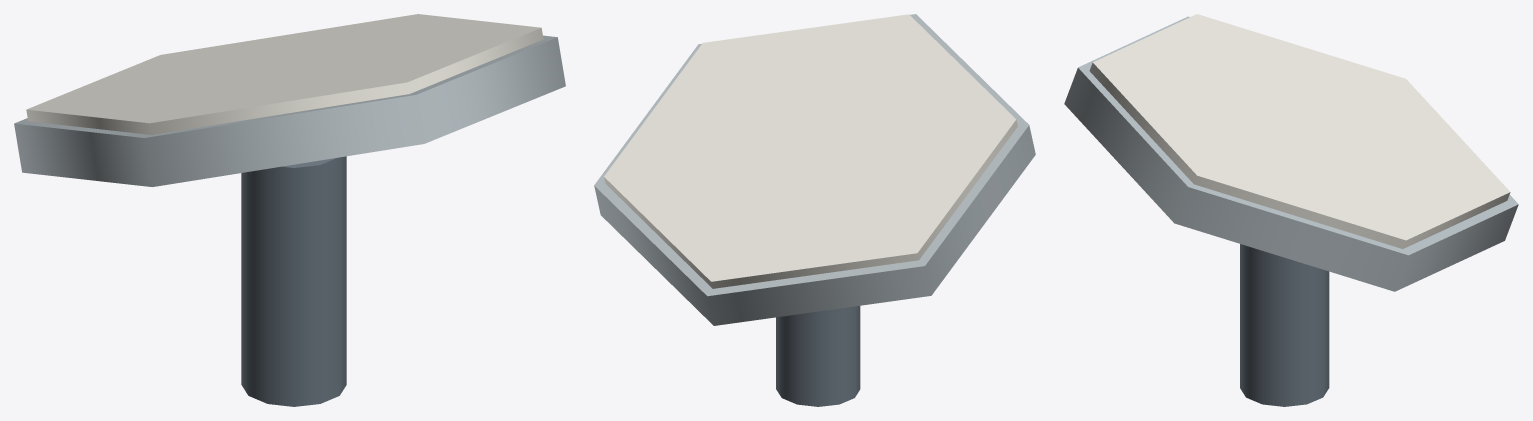
File: perseverance_power_comms.high_gain.glb
3 views of the same model, side by side, from view 1: azimuth 30°, elevation 25°; view 2: azimuth 150°, elevation 25°; view 3: azimuth 270°, elevation 25° (orthographic). The views are drawn at different scales.
Parts seen in each view (by area): view 1: perseverance_power_comms.high_gain.elevation.mesh_Warm_white, perseverance_power_comms.high_gain.elevation.mesh_Satin_alum, perseverance_power_comms.high_gain.mesh_Machined_steel; view 2: perseverance_power_comms.high_gain.elevation.mesh_Warm_white, perseverance_power_comms.high_gain.elevation.mesh_Satin_alum, perseverance_power_comms.high_gain.mesh_Machined_steel; view 3: perseverance_power_comms.high_gain.elevation.mesh_Warm_white, perseverance_power_comms.high_gain.elevation.mesh_Satin_alum, perseverance_power_comms.high_gain.mesh_Machined_steel.
Part boxes in pixels (x1=…): perseverance_power_comms.high_gain.elevation.mesh_Warm_white: x1=26, y1=14, x2=543, y2=134; perseverance_power_comms.high_gain.elevation.mesh_Satin_alum: x1=14, y1=35, x2=565, y2=186; perseverance_power_comms.high_gain.mesh_Machined_steel: x1=241, y1=156, x2=346, y2=406; perseverance_power_comms.high_gain.elevation.mesh_Warm_white: x1=604, y1=14, x2=1017, y2=288; perseverance_power_comms.high_gain.elevation.mesh_Satin_alum: x1=594, y1=14, x2=1035, y2=325; perseverance_power_comms.high_gain.mesh_Machined_steel: x1=776, y1=306, x2=860, y2=406; perseverance_power_comms.high_gain.elevation.mesh_Warm_white: x1=1089, y1=14, x2=1510, y2=248; perseverance_power_comms.high_gain.elevation.mesh_Satin_alum: x1=1064, y1=16, x2=1518, y2=291; perseverance_power_comms.high_gain.mesh_Machined_steel: x1=1240, y1=244, x2=1329, y2=406.
Size of the model in its own units: 0.3984 by 0.3548 by 0.4488.
